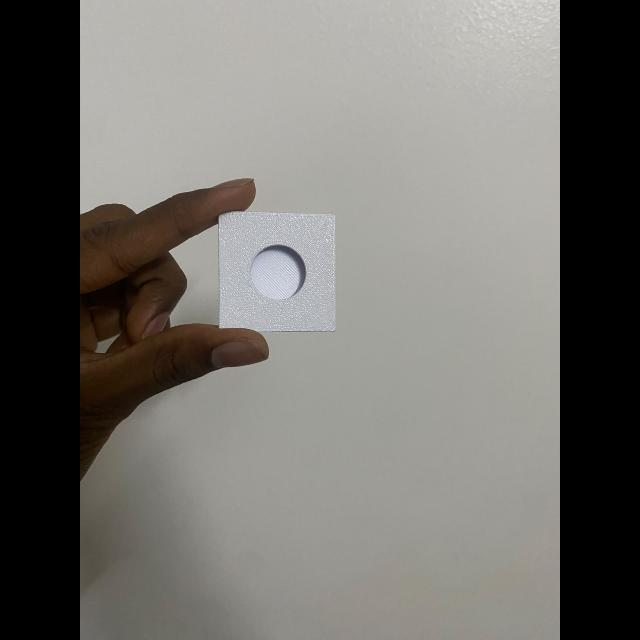RASPBERY PI CAM ENCLOSURE: (218, 212, 336, 332)
